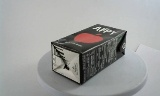appy: (46, 23, 118, 86)
